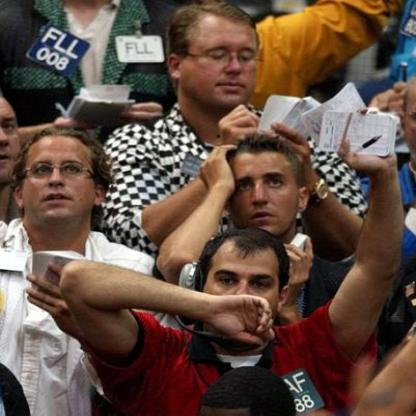face: (205, 228, 286, 341), (178, 5, 264, 108), (227, 139, 303, 243), (21, 132, 100, 226), (1, 100, 23, 184)
